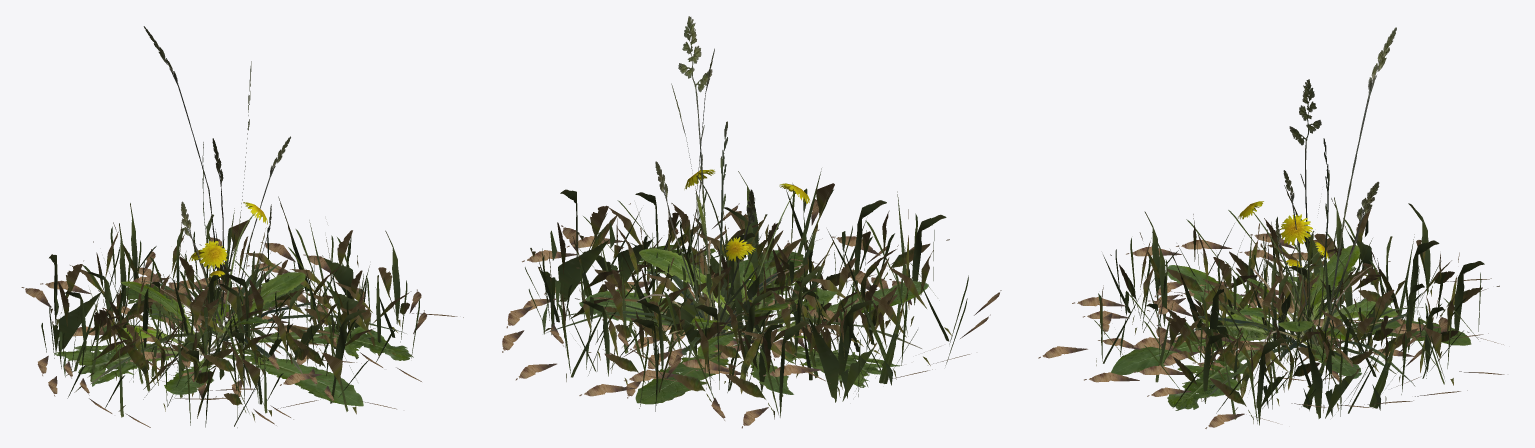
Rendered from kit.glb.
3 renders of one model, left to right at view 1: azimuth 30°, elevation 25°; view 2: azimuth 150°, elevation 25°; view 3: azimuth 270°, elevation 25°, orthographic. The views are drawn at different scales.
Visible parts, largest first — view 1: tuft-0, tuft-2, dandelion, tuft-1, spiky; view 2: tuft-0, tuft-2, tuft-1, dandelion, spiky; view 3: tuft-0, tuft-2, dandelion, tuft-1, spiky.
Boxes of the visible parts, x1,y1,x2,y2 form: tuft-0: (40,196,463,427); tuft-2: (21,208,426,427); dandelion: (54,202,413,406); tuft-1: (62,214,380,419); spiky: (90,26,406,384); tuft-0: (502,168,1001,420); tuft-2: (515,171,969,428); tuft-1: (523,192,940,398); dandelion: (579,169,928,404); spiky: (543,16,921,360); tuft-0: (1038,197,1499,428); tuft-2: (1072,185,1504,423); dandelion: (1111,201,1471,410); tuft-1: (1083,232,1488,410); spiky: (1167,27,1423,401).
Bounding box in the file's own units: 0.5441 × 0.4055 × 0.5638.
Materials: 3 (3 with a texture image).
